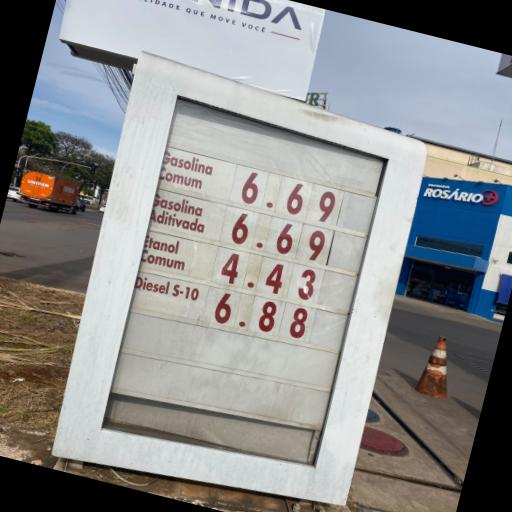GASOLINA AD: (148, 187, 218, 246)
S10: (131, 273, 205, 320)
placa: (125, 138, 369, 364)
preco: (220, 207, 336, 266), (207, 292, 315, 353)
